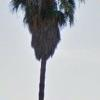Palm tree: (16, 1, 72, 93)
